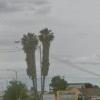Palm tree: (16, 16, 55, 85)
